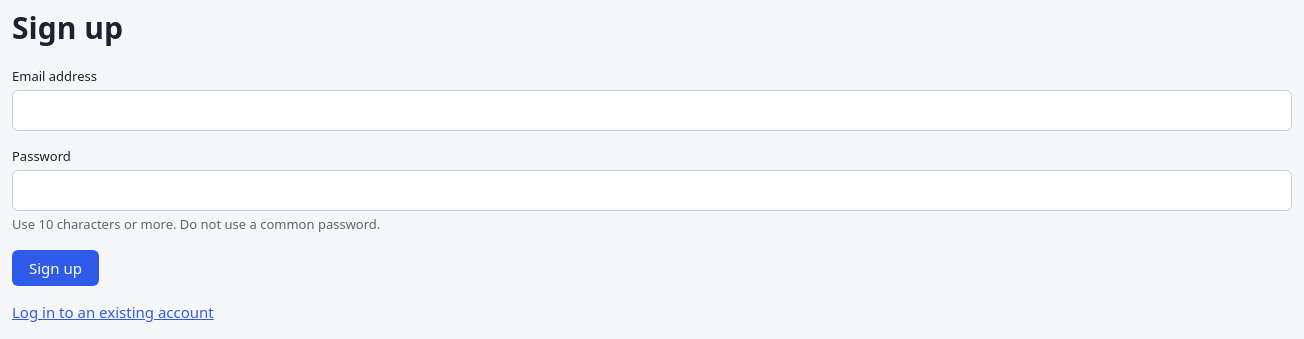
Test: auth requirements › AUTH-001 sign-up shows the message to open the verification email
Step 1. Type "new@example.com" into the field labelled "Email address" → (652, 110), box [12, 90, 1292, 131]
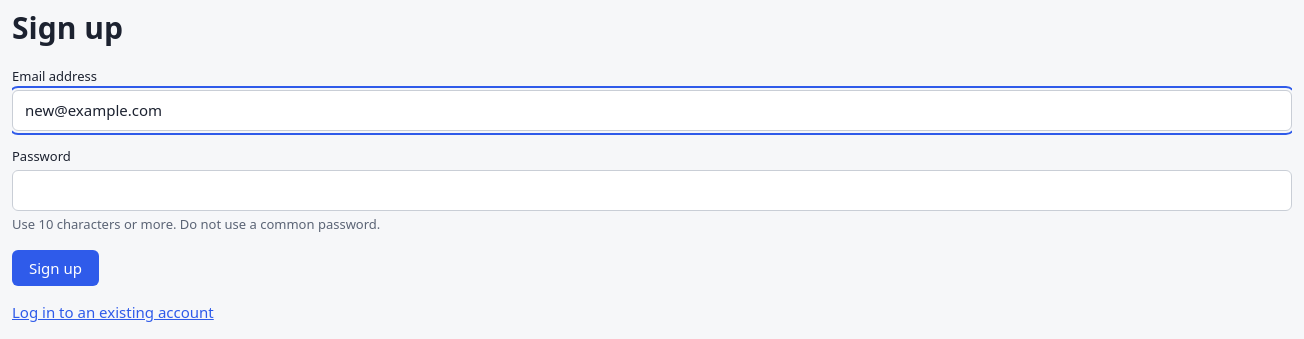
Step 2. Type "a-long-password-1" into the password field labelled "Password" → (652, 190), box [12, 170, 1292, 211]
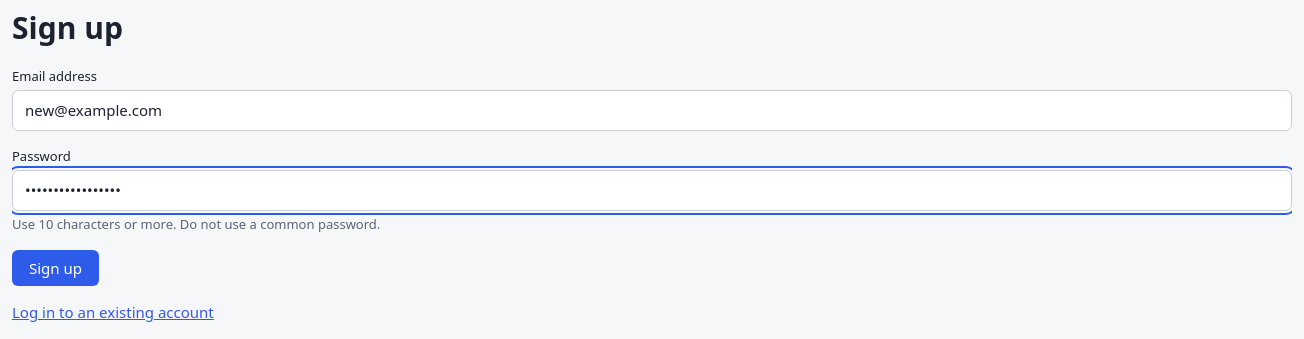
Step 3. Click the button "Sign up" → (56, 268), box [12, 250, 99, 286]
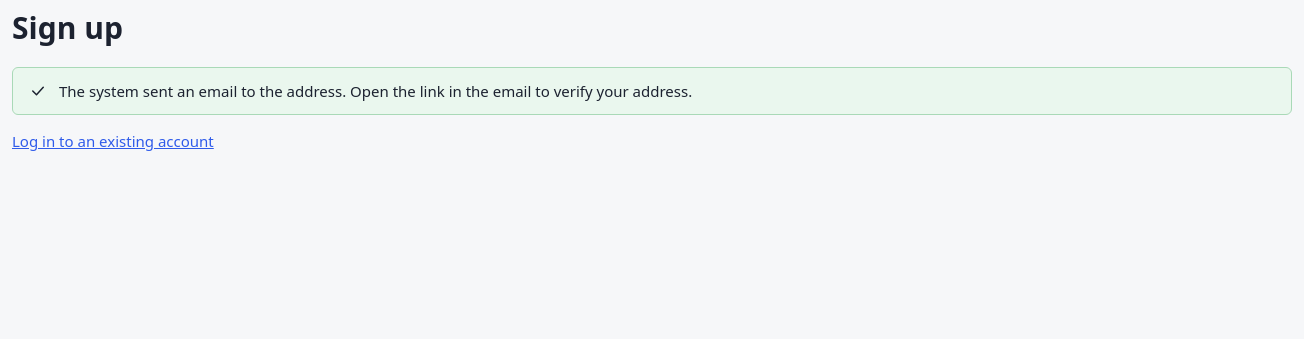
Check: the text "The system sent an email to the address. Open the link in the email to verify your address." is shown, box [59, 81, 692, 101]
